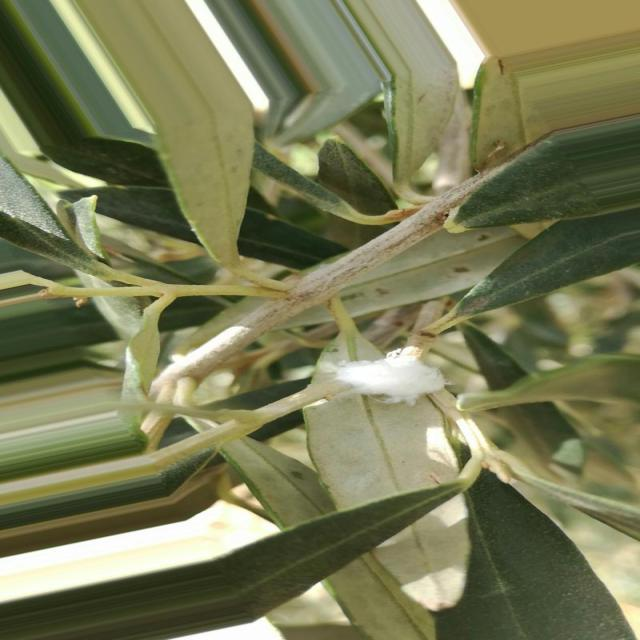Psyllid: (318, 346, 446, 406)
